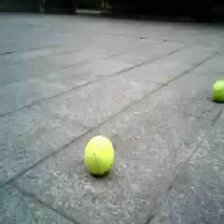tennis: (84, 136, 114, 173), (213, 80, 224, 102)
